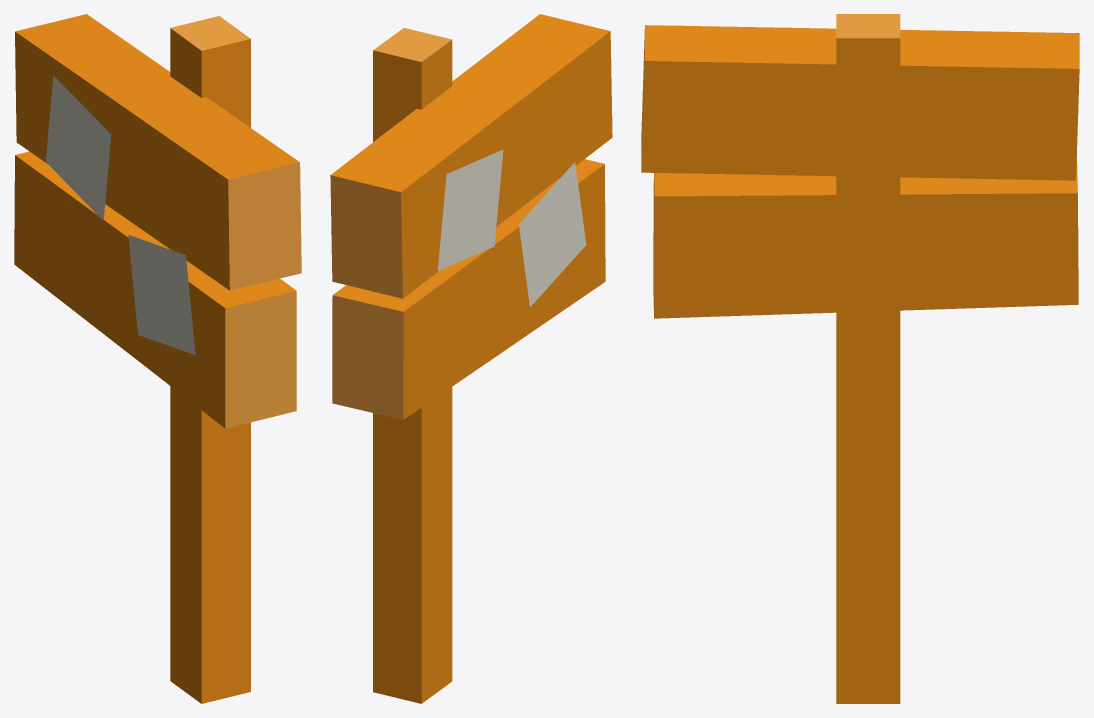
The model's file is signpost 1.fbx.
3 views of the same model, side by side, from view 1: azimuth 30°, elevation 25°; view 2: azimuth 150°, elevation 25°; view 3: azimuth 270°, elevation 25° (orthographic). The views are drawn at different scales.
Visible parts, largest first — view 1: sign_post1; view 2: sign_post1; view 3: sign_post1.
Boxes of the visible parts, x1,y1,x2,y2 form: sign_post1: (14,14,301,703); sign_post1: (330,14,612,703); sign_post1: (641,14,1079,703).
Bounding box in the file's own units: 1.3 × 6.73 × 4.02.
